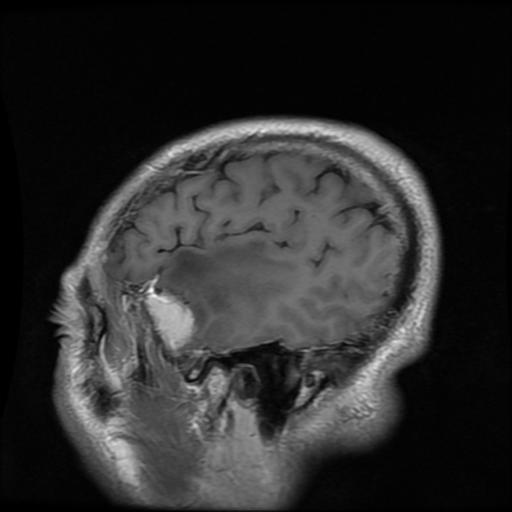Menigiomia_tumour: (146, 291, 195, 352)
